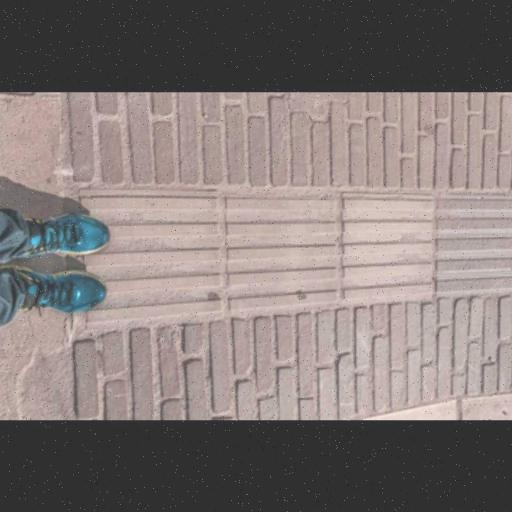line: (65, 189, 230, 332), (223, 190, 346, 320), (340, 191, 440, 306), (437, 196, 511, 300)
